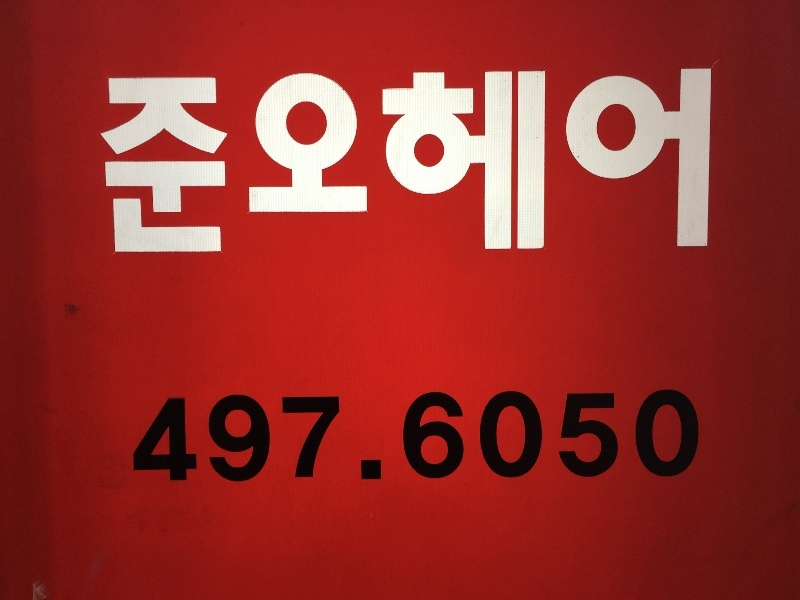text: (97, 68, 112, 263), (113, 68, 128, 263), (129, 68, 144, 263), (145, 68, 160, 263), (161, 68, 176, 263), (177, 68, 192, 263), (193, 68, 208, 263), (209, 68, 224, 263), (225, 68, 240, 263), (241, 68, 256, 263), (257, 68, 272, 263), (273, 68, 288, 263), (289, 68, 304, 263), (305, 68, 320, 263), (321, 68, 336, 263), (337, 68, 352, 263), (353, 68, 368, 263), (369, 68, 384, 263), (385, 68, 400, 263), (401, 68, 416, 263), (417, 68, 432, 263), (433, 68, 448, 263), (449, 68, 464, 263), (465, 68, 480, 263), (481, 68, 496, 263), (497, 68, 512, 263), (513, 68, 528, 263), (529, 68, 544, 263), (545, 68, 560, 263), (561, 68, 576, 263), (577, 68, 592, 263), (593, 68, 608, 263), (609, 68, 624, 263), (625, 68, 640, 263), (641, 68, 656, 263), (657, 68, 672, 263), (673, 68, 688, 263), (689, 68, 704, 263), (705, 68, 714, 263), (177, 386, 192, 486), (193, 386, 208, 486), (209, 386, 224, 486), (225, 386, 240, 486), (241, 386, 256, 486), (257, 386, 272, 486), (273, 386, 288, 486), (289, 386, 304, 486), (305, 386, 320, 486), (321, 386, 336, 486), (337, 386, 352, 486), (353, 386, 368, 486), (369, 386, 384, 486), (385, 386, 400, 486), (401, 386, 416, 486), (417, 386, 432, 486), (433, 386, 448, 486), (449, 386, 464, 486), (465, 386, 480, 486), (481, 386, 496, 486), (497, 386, 512, 486), (513, 386, 528, 486), (529, 386, 544, 486), (545, 386, 560, 486), (561, 386, 576, 486), (577, 386, 592, 486), (593, 386, 608, 486), (609, 386, 624, 486), (625, 386, 640, 486), (641, 386, 656, 486), (657, 386, 672, 486), (673, 386, 688, 486), (689, 386, 703, 486), (166, 386, 176, 486)
